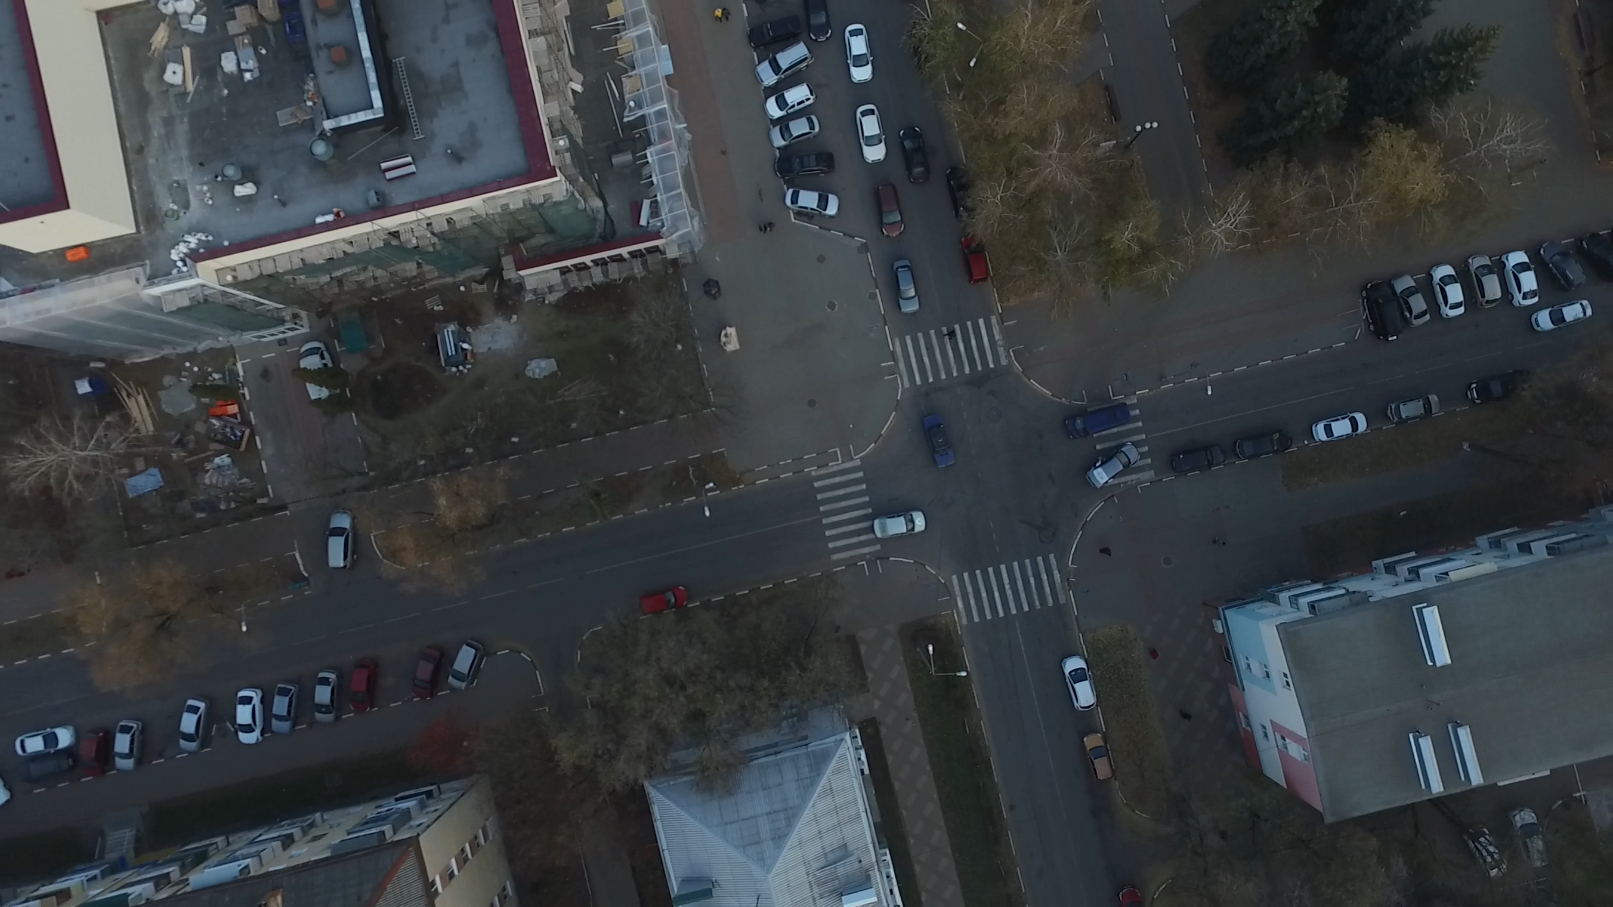car: (1509, 807, 1558, 878), (753, 35, 812, 86), (1535, 239, 1585, 292), (1467, 826, 1514, 882), (1062, 401, 1130, 439), (1061, 653, 1101, 717), (229, 686, 268, 750), (1089, 442, 1141, 489), (1465, 369, 1533, 404), (320, 511, 359, 573), (783, 181, 840, 221), (1362, 276, 1398, 339), (449, 639, 491, 692), (1571, 231, 1613, 284), (775, 146, 838, 181), (14, 724, 78, 757), (410, 646, 448, 701), (1389, 276, 1427, 331), (109, 720, 147, 773), (854, 104, 888, 164), (1428, 262, 1463, 319), (843, 22, 875, 84), (176, 697, 213, 751), (347, 658, 382, 713), (1467, 254, 1499, 313), (1502, 248, 1535, 306), (764, 81, 818, 116), (76, 728, 113, 779), (870, 181, 902, 238), (1528, 302, 1592, 331), (268, 683, 304, 735), (872, 508, 927, 542), (769, 113, 824, 145), (1232, 429, 1288, 460), (925, 411, 955, 468), (890, 257, 919, 315), (314, 669, 345, 724), (1309, 413, 1371, 441), (900, 127, 929, 184), (1170, 443, 1225, 473), (748, 16, 802, 45), (638, 588, 691, 618), (1385, 395, 1440, 423), (960, 229, 987, 285), (1083, 730, 1113, 779), (947, 166, 972, 221), (806, 1, 835, 42), (1118, 884, 1143, 907)
